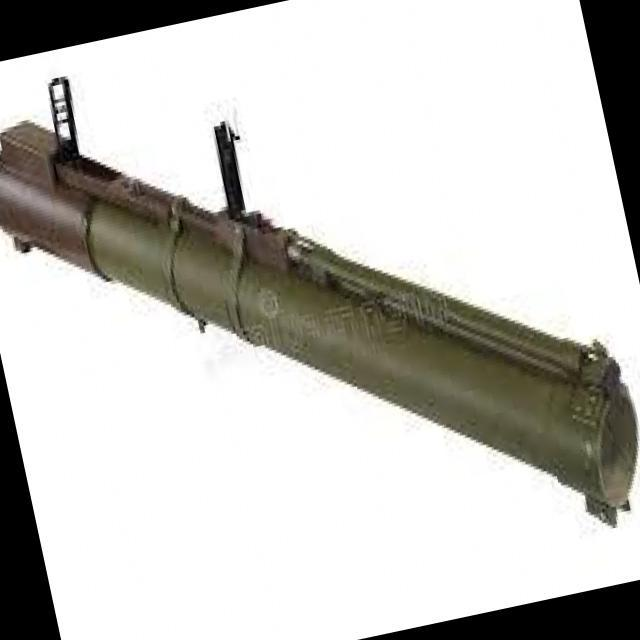rocket: (0, 0, 640, 622)
